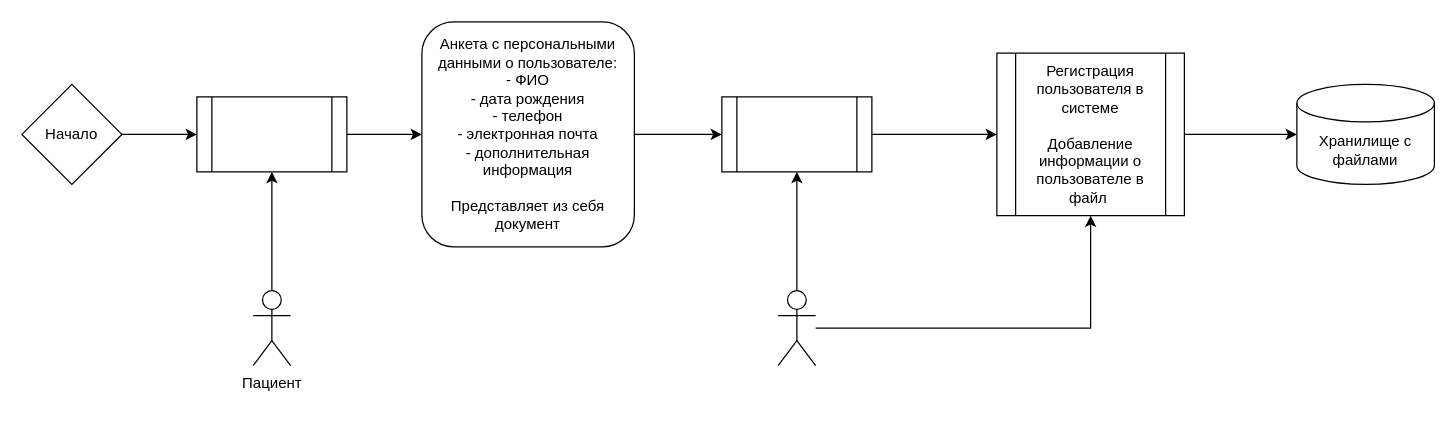
This 1456x433 diagram has some shape labels left out. Here are the shapes that lost their labels. From the top down, the centre of each, then its label:
At (x=271, y=134): "Заполнение анкеты пациента".
At (x=796, y=134): "Проверка данных".
At (x=796, y=327): "Сотрудник ресепшена".
